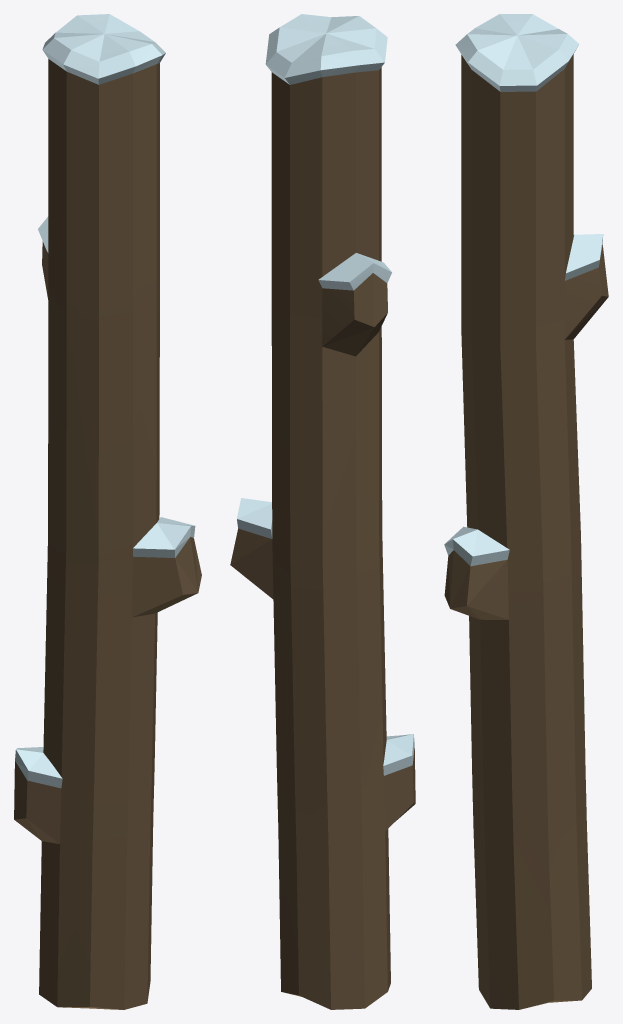
File: Palo_Cerca04.glb
3 views of the same model, side by side, from view 1: azimuth 30°, elevation 25°; view 2: azimuth 210°, elevation 25°; view 3: azimuth 270°, elevation 25° (orthographic).
Parts seen in each view (by area): view 1: SM_Prop_Fence_Wood_Pole_04_Snow; view 2: SM_Prop_Fence_Wood_Pole_04_Snow; view 3: SM_Prop_Fence_Wood_Pole_04_Snow.
Part boxes in pixels (x1,y1,x2,y2): SM_Prop_Fence_Wood_Pole_04_Snow: (14,14,201,1009); SM_Prop_Fence_Wood_Pole_04_Snow: (230,14,415,1009); SM_Prop_Fence_Wood_Pole_04_Snow: (444,14,608,1009).
Bounding box in the file's own units: 0.6866 × 4.48 × 0.6938.
1 material, 1 textured.
